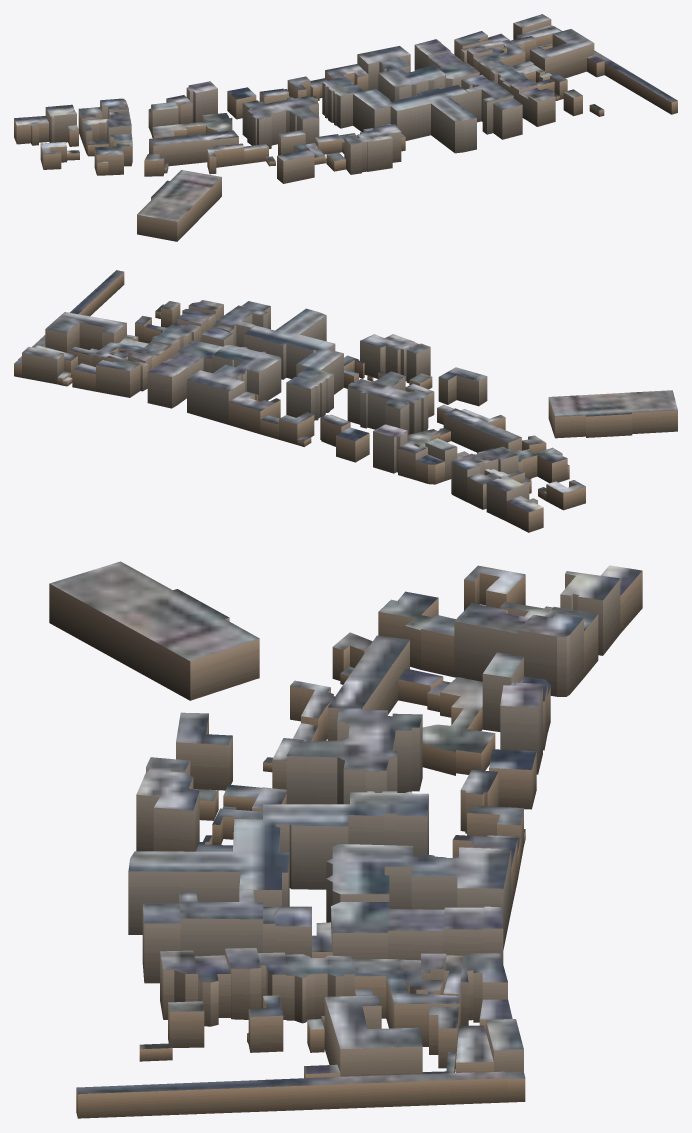
3 views of the same model, one above another, from view 1: azimuth 30°, elevation 25°; view 2: azimuth 150°, elevation 25°; view 3: azimuth 270°, elevation 25° (orthographic). The views are drawn at different scales.
Size of the model in its own units: 311 by 18.54 by 149.
Materials: 2 (2 with a texture image).
